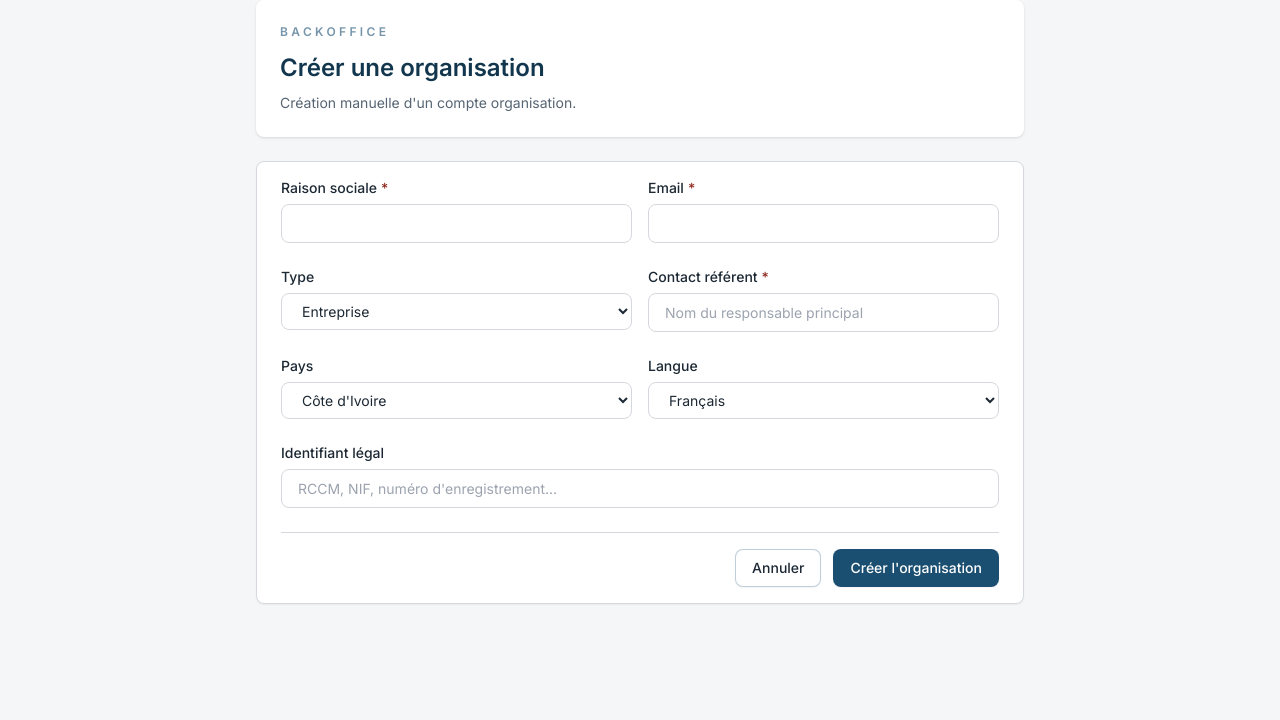
OrganisationCreate › affiche la modale de confirmation apres creation
Step 1. Type "Org Test" into the field labelled "Raison sociale*" → (456, 224), box [281,204,632,243]
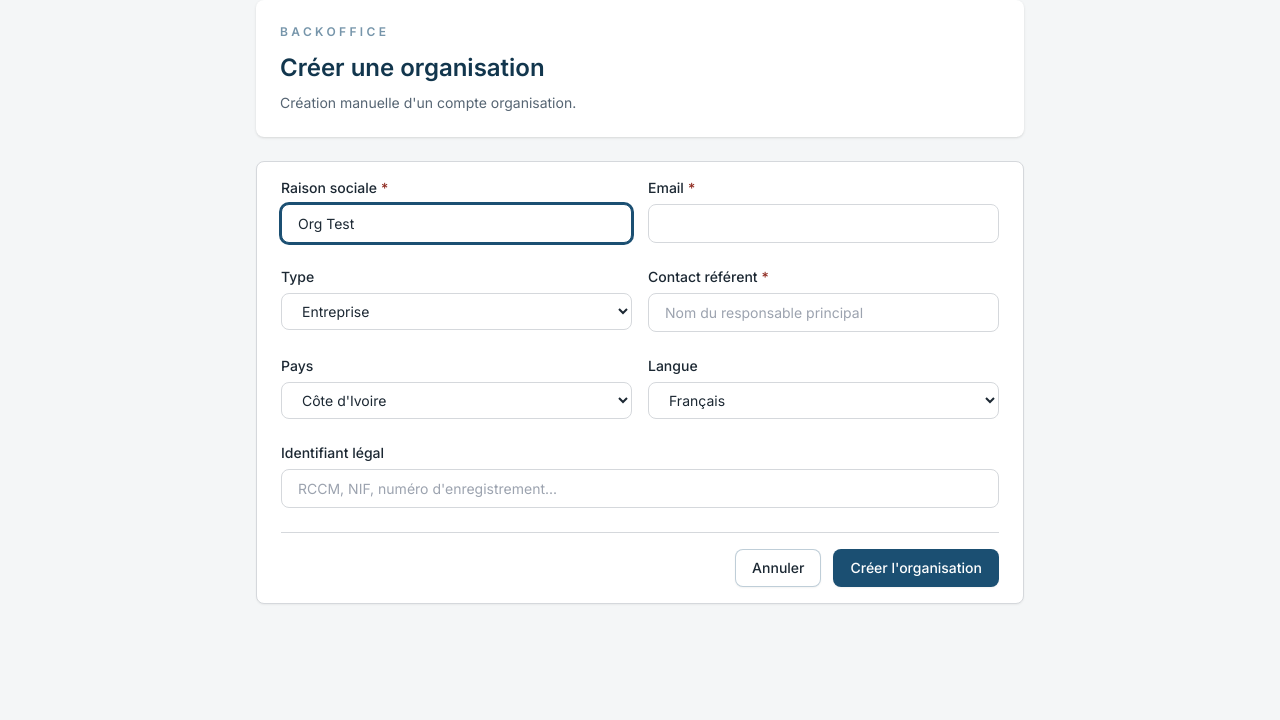
Step 2. Type "org@test.ci" into the field labelled "Email*" → (824, 224), box [648,204,999,243]
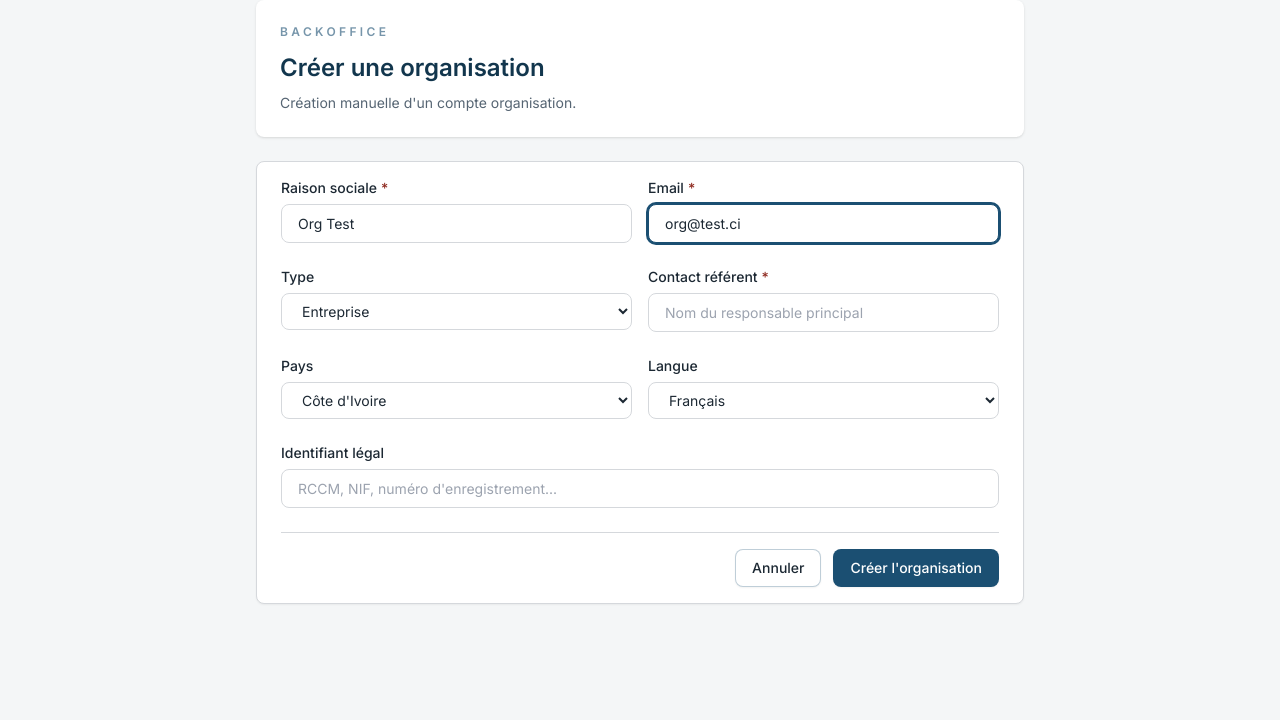
Step 3. Type "Alice Test" into the field labelled "Contact référent*" → (824, 312), box [648,293,999,332]
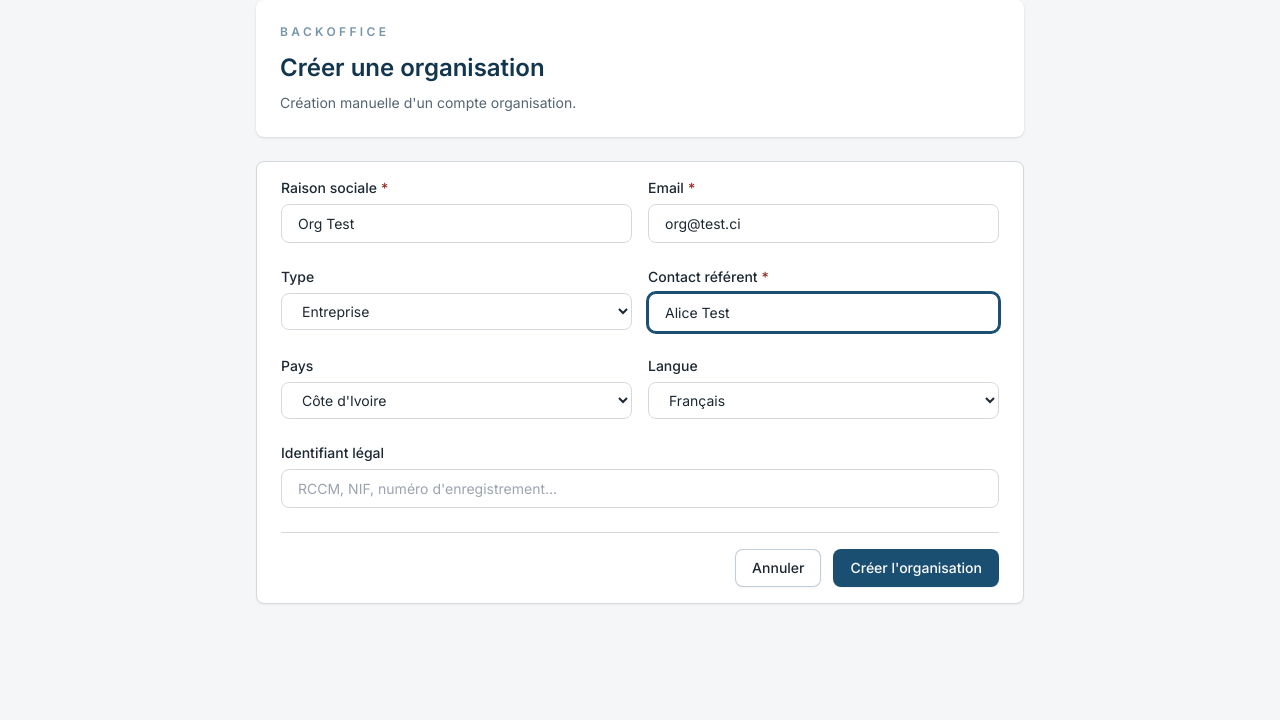
Step 4. Submit the form with test id "form-creer-organisation", box [281,178,999,587]
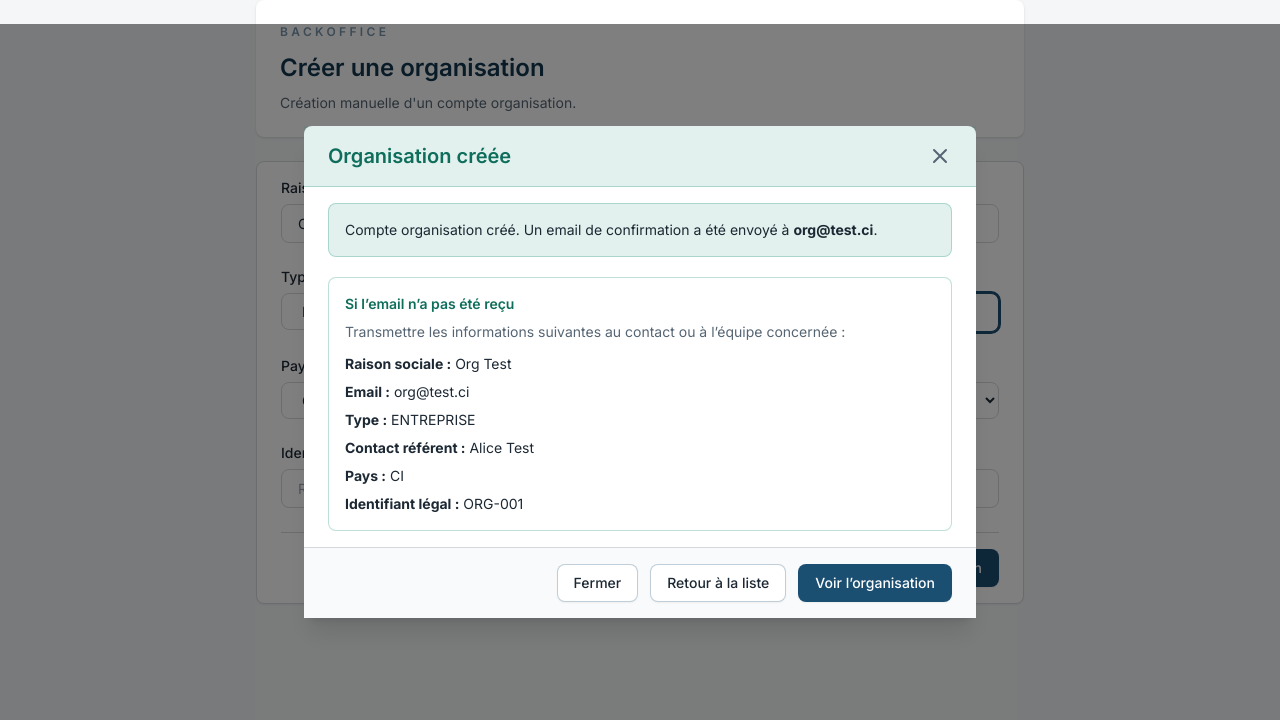
Now the heading "Organisation créée" is shown, box [328,142,511,170]
Now the text "Un email de confirmation a été envoyé à" is shown, box [345,221,789,238]
Now the text "Si l’email n’a pas été reçu" is shown, box [345,295,514,312]
